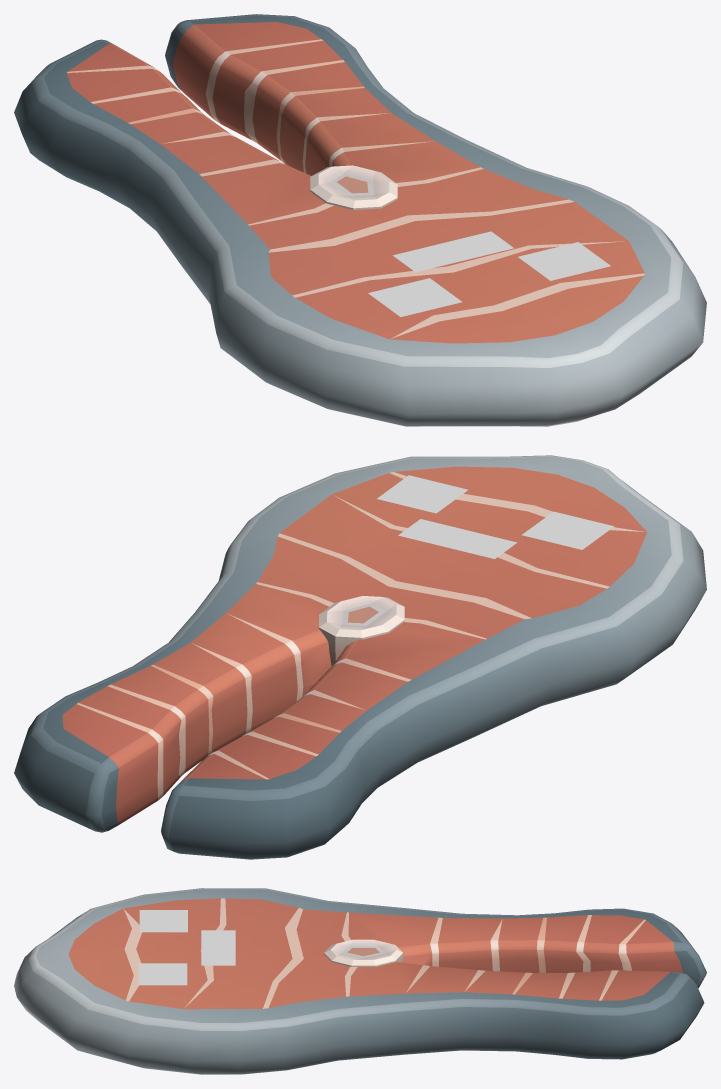
File: fish_smile.fbx
3 renders of one model, top to bottom at view 1: azimuth 30°, elevation 25°; view 2: azimuth 150°, elevation 25°; view 3: azimuth 270°, elevation 25°, orthographic. The views are drawn at different scales.
Parts seen in each view (by area): view 1: fish_smile; view 2: fish_smile; view 3: fish_smile.
Part boxes in pixels (left/top/right/bottom): fish_smile: left=14, top=14, right=706, bottom=426; fish_smile: left=14, top=455, right=706, bottom=859; fish_smile: left=14, top=888, right=706, bottom=1074.
Bounding box in the file's own units: 91.33 × 16.47 × 177.
2 materials, 1 textured.
